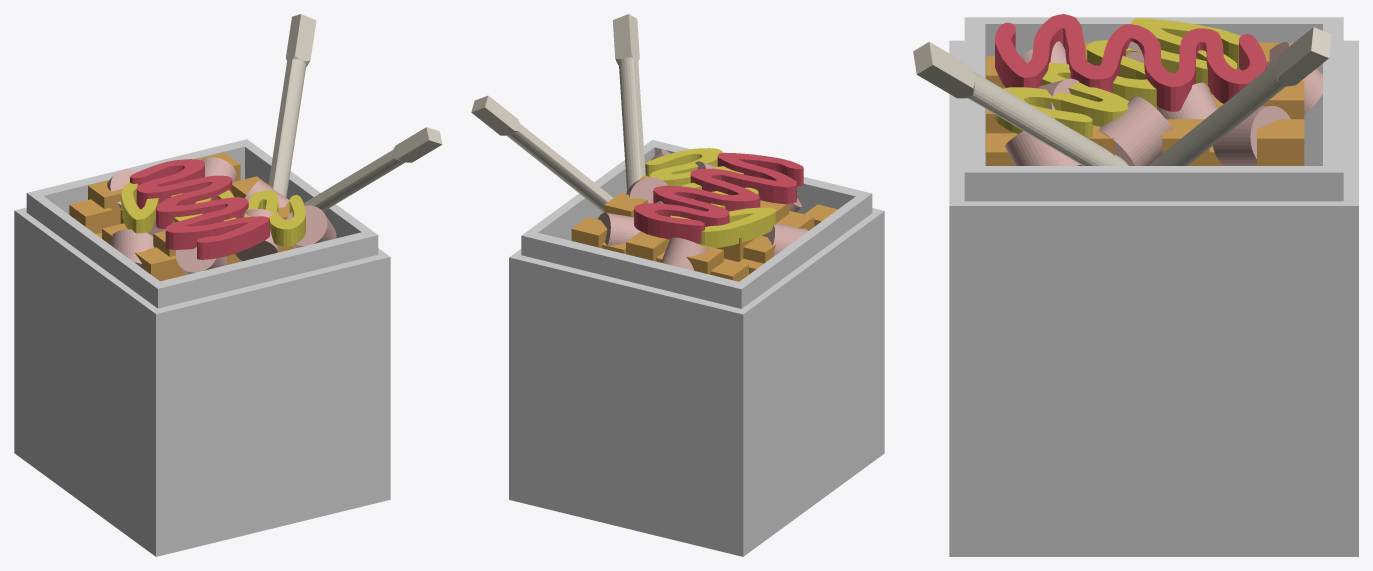
Rendered from Bennett V - Fries and Hotdogs.glb.
3 renders of one model, left to right at view 1: azimuth 30°, elevation 25°; view 2: azimuth 150°, elevation 25°; view 3: azimuth 270°, elevation 25°, orthographic. The views are drawn at different scales.
Parts seen in each view (by area): view 1: Mesh_Mesh_head_geo.001_lambert2SG.001; view 2: Mesh_Mesh_head_geo.001_lambert2SG.001; view 3: Mesh_Mesh_head_geo.001_lambert2SG.001.
Boxes of the visible parts, bbox=[...] form: Mesh_Mesh_head_geo.001_lambert2SG.001: bbox=[14, 14, 442, 556]; Mesh_Mesh_head_geo.001_lambert2SG.001: bbox=[471, 14, 884, 556]; Mesh_Mesh_head_geo.001_lambert2SG.001: bbox=[913, 14, 1358, 556].
Size of the model in its own units: 0.1005 by 0.1293 by 0.094.
